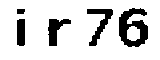6: (117, 5, 149, 51)
7: (82, 5, 114, 50)
i: (12, 3, 32, 52)
r: (43, 15, 73, 50)
